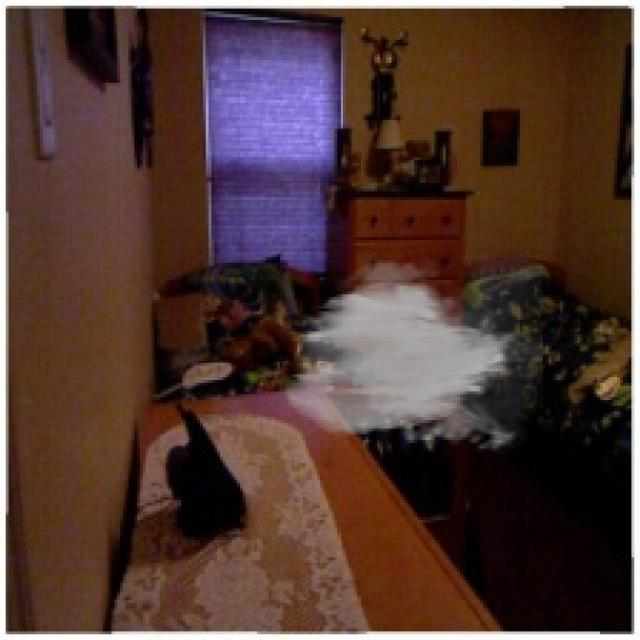Smoke: (280, 254, 543, 457)
